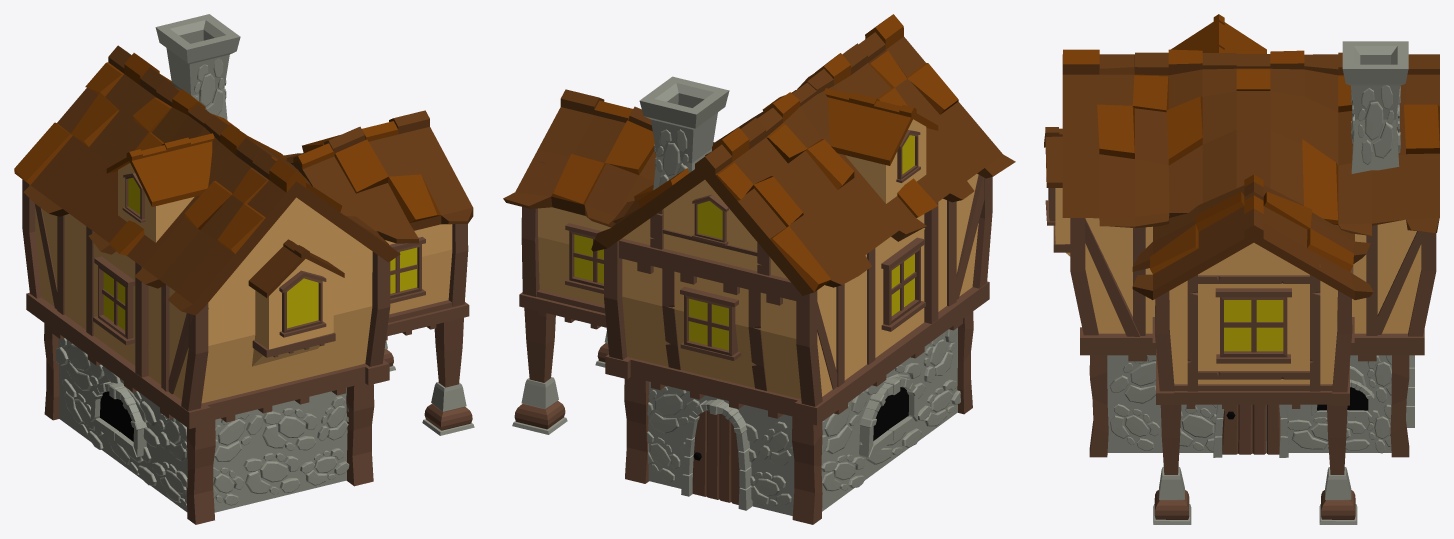
File: MediHouse2.fbx
3 renders of one model, left to right at view 1: azimuth 30°, elevation 25°; view 2: azimuth 150°, elevation 25°; view 3: azimuth 270°, elevation 25°, orthographic. The views are drawn at different scales.
Parts seen in each view (by area): view 1: Cube; view 2: Cube; view 3: Cube.
Part boxes in pixels (x1,y1,x2,y2): Cube: (14,14,474,524); Cube: (503,14,1015,524); Cube: (1044,14,1439,524).
Bounding box in the file's own units: 1011 × 1031 × 970.
